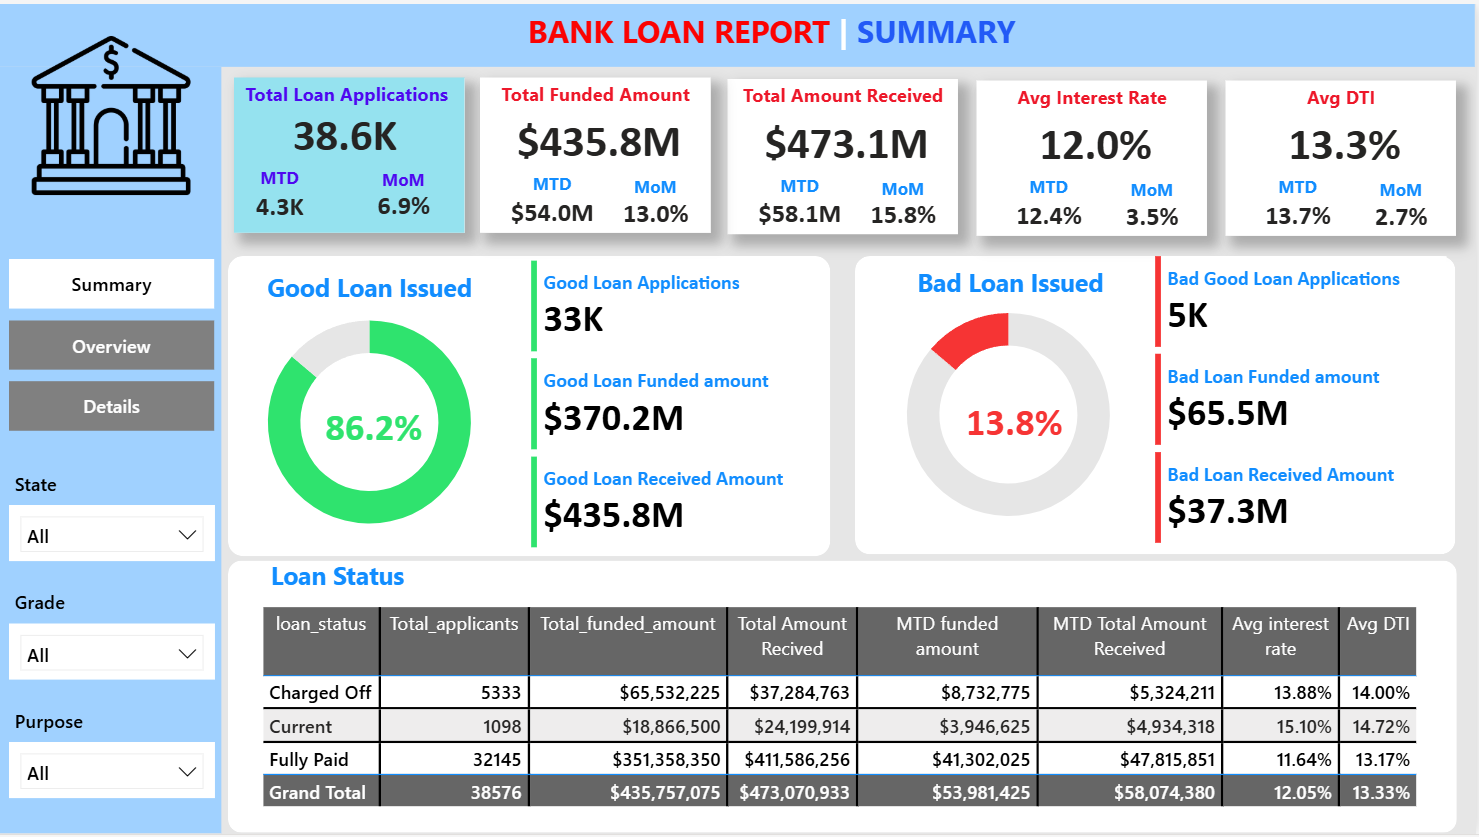

This screenshot's page, from the dashboard's own definition file:
{"tool":"powerbi","page":{"name":"Summary","canvas":[1280,720],"ordinal":0},"visuals":[{"type":"shape","box":[0,0,1279.5,54.5],"z":0},{"type":"textbox","box":[7.6,399.8,89.3,34.8],"z":0,"group":"g1"},{"type":"slicer","fields":{"Values":["bank_loans bank_loan_data.grade"]},"box":[7.6,537.6,178.7,48.5],"z":0,"group":"g8"},{"type":"slicer","fields":{"Values":["bank_loans bank_loan_data.purpose"]},"box":[7.6,640.5,178.7,48.5],"z":0,"group":"g9"},{"type":"shape","box":[0,54.5,192.3,664.7],"z":1000},{"type":"slicer","fields":{"Values":["bank_loans bank_loan_data.address_state"]},"box":[7.6,434.6,178.7,48.5],"z":1000,"group":"g1"},{"type":"textbox","box":[7.6,502.8,89.3,34.8],"z":1000,"group":"g8"},{"type":"textbox","box":[7.6,605.7,89.3,34.8],"z":1000,"group":"g9"},{"type":"textbox","box":[452.7,0,457.3,54.5],"z":2000},{"type":"group","id":"g1","title":"Group 4","box":[7.6,399.8,178.7,83.3],"z":2000,"group":"g8"},{"type":"group","id":"g2","title":"Group 1","box":[198.4,61.3,204.6,137.8],"z":3000},{"type":"shape","box":[415.8,63.6,199.9,134.8],"z":3000,"group":"g5"},{"type":"shape","box":[203.2,64.3,199.9,134.8],"z":3000,"group":"g2"},{"type":"shape","box":[631.5,65.1,199.9,134.8],"z":3000,"group":"g3"},{"type":"shape","box":[847.3,66.6,199.9,134.8],"z":3000,"group":"g4"},{"type":"shape","box":[1063,66.6,199.9,134.8],"z":3000,"group":"g6"},{"type":"group","id":"g3","title":"Group 1","box":[631.5,62.1,202.9,139.3],"z":4000},{"type":"card","fields":{"Values":["bank_loans bank_loan_data.Total_applicants"]},"box":[232.9,89.3,131.7,42.4],"z":4000,"group":"g2"},{"type":"card","fields":{"Values":["bank_loans bank_loan_data.Total_funded_amount"]},"box":[416.5,93.1,202.9,45.4],"z":4000,"group":"g5"},{"type":"card","fields":{"Values":["bank_loans bank_loan_data.Total Amount Recived"]},"box":[632.2,94.6,202.9,45.4],"z":4000,"group":"g3"},{"type":"card","fields":{"Values":["bank_loans bank_loan_data.Avg interest rate"]},"box":[848,96.1,202.9,45.4],"z":4000,"group":"g4"},{"type":"card","fields":{"Values":["bank_loans bank_loan_data.Avg DTI"]},"box":[1063.7,96.1,202.9,45.4],"z":4000,"group":"g6"},{"type":"textbox","box":[421.9,60.6,187.8,33.3],"z":5000,"group":"g5"},{"type":"textbox","box":[206.9,61.3,187.8,33.3],"z":5000,"group":"g2"},{"type":"textbox","box":[637.6,62.1,187.8,33.3],"z":5000,"group":"g3"},{"type":"textbox","box":[853.4,63.6,187.8,33.3],"z":5000,"group":"g4"},{"type":"textbox","box":[1069.1,63.6,187.8,33.3],"z":5000,"group":"g6"},{"type":"shape","box":[198.4,218,522.4,260.4],"z":5000},{"type":"card","title":"MTD","fields":{"Values":["bank_loans bank_loan_data.MTD_ Loan Application"]},"box":[198.4,140.7,89.3,54.5],"z":6000,"group":"g2"},{"type":"card","title":"MTD","fields":{"Values":["bank_loans bank_loan_data.MTD funded amount"]},"box":[431.2,145.4,93.9,54.5],"z":6000,"group":"g5"},{"type":"card","title":"MTD","fields":{"Values":["bank_loans bank_loan_data.MTD Total Amount Received"]},"box":[646.9,146.9,93.9,54.5],"z":6000,"group":"g3"},{"type":"card","title":"MTD","fields":{"Values":["bank_loans bank_loan_data.MTD Avg Interest Rate"]},"box":[862.7,148.4,93.9,54.5],"z":6000,"group":"g4"},{"type":"card","title":"MTD","fields":{"Values":["bank_loans bank_loan_data.MTD Avg Interest Rate"]},"box":[1078.4,148.4,93.9,54.5],"z":6000,"group":"g6"},{"type":"card","fields":{"Values":["bank_loans bank_loan_data.Good Loan %"]},"box":[249.8,342.2,148.4,45.4],"z":6000},{"type":"card","title":"MoM","fields":{"Values":["bank_loans bank_loan_data.MoM applications"]},"box":[305.1,142.2,90.9,51.5],"z":7000,"group":"g2"},{"type":"card","title":"MoM","fields":{"Values":["bank_loans bank_loan_data.MoM total funded amount"]},"box":[522,147.5,90.9,51.5],"z":7000,"group":"g5"},{"type":"card","title":"MoM","fields":{"Values":["bank_loans bank_loan_data.MoM Total Amount Received"]},"box":[737.7,149,90.9,51.5],"z":7000,"group":"g3"},{"type":"card","title":"MoM","fields":{"Values":["bank_loans bank_loan_data.MoM Avg Interest Rate"]},"box":[953.5,150.5,90.9,51.5],"z":7000,"group":"g4"},{"type":"card","title":"MoM","fields":{"Values":["bank_loans bank_loan_data.MoM Avg DTI"]},"box":[1169.2,150.5,90.9,51.5],"z":7000,"group":"g6"},{"type":"shape","box":[742,218,520.9,258.9],"z":7000},{"type":"group","id":"g4","title":"Group 1","box":[847.3,63.6,202.9,139.3],"z":8000},{"type":"textbox","box":[782.9,221.1,186.2,48.5],"z":8000,"group":"g10"},{"type":"group","id":"g5","title":"Group 1","box":[415.8,60.6,202.9,139.3],"z":9000},{"type":"group","id":"g6","title":"Group 1","box":[1063,63.6,202.9,139.3],"z":10000},{"type":"donutChart","fields":{"Category":["bank_loans bank_loan_data.Good Loan Vs Bad Loan"],"Y":["bank_loans bank_loan_data.Total_applicants"]},"box":[195.3,247.6,249.8,230.2],"z":10000,"group":"g7"},{"type":"card","fields":{"Values":["bank_loans bank_loan_data.Bad Good Loan %"]},"box":[805.6,337.7,148.4,45.4],"z":11000},{"type":"group","id":"g7","title":"Group 3","box":[195.3,213.5,1064.5,265],"z":12000},{"type":"cardVisual","fields":{"Data":["bank_loans bank_loan_data.Good Loan Applications","bank_loans bank_loan_data.Good Loan Funded amount","bank_loans bank_loan_data.Good Loan Received Amount"]},"box":[455.7,217.4,263.5,260.4],"z":13000,"group":"g7"},{"type":"shape","box":[198.4,483,1066,236.2],"z":13000},{"type":"donutChart","fields":{"Category":["bank_loans bank_loan_data.Good Loan Vs Bad Loan"],"Y":["bank_loans bank_loan_data.Total_applicants"]},"box":[749.6,240.8,249.8,230.2],"z":14000,"group":"g10"},{"type":"tableEx","fields":{"Values":["bank_loans bank_loan_data.loan_status","bank_loans bank_loan_data.Total_applicants","bank_loans bank_loan_data.Total_funded_amount","bank_loans bank_loan_data.Total Amount Recived","bank_loans bank_loan_data.MTD funded amount","bank_loans bank_loan_data.MTD Total Amount Received","bank_loans bank_loan_data.Avg interest rate","bank_loans bank_loan_data.Avg DTI"]},"box":[222.6,517.9,1017.5,201.4],"z":14000},{"type":"textbox","box":[224.1,475.5,137.8,45.4],"z":15000},{"type":"textbox","box":[219.5,224.9,201.4,45.4],"z":16000,"group":"g7"},{"type":"group","id":"g8","title":"Group 5","box":[7.6,399.8,178.7,186.2],"z":16000},{"type":"cardVisual","fields":{"Data":["bank_loans bank_loan_data.Bad Good Loan Applications","bank_loans bank_loan_data.Bad Loan Funded amount","bank_loans bank_loan_data.Good Loan Received Amount"]},"box":[996.4,213.5,263.5,260.4],"z":17000,"group":"g10"},{"type":"group","id":"g9","title":"Group 6","box":[7.6,605.7,178.7,83.3],"z":17000},{"type":"image","box":[22.7,10.6,148.4,172.6],"z":17001},{"type":"group","id":"g10","title":"Group 2","box":[749.6,213.5,510.3,260.4],"z":17001,"group":"g7"},{"type":"pageNavigator","box":[7.6,221.1,178.7,149.9],"z":17002}]}

Visuals, with their boxes in screenshot pixels (x1, y1, x2, y2), scaled from the page's 1280x720 canvas onto the 1479x837 screenshot:
shape: bbox=[0, 0, 1478, 63]
textbox: bbox=[9, 465, 112, 505]
slicer - bank_loans bank_loan_data.grade: bbox=[9, 625, 215, 681]
slicer - bank_loans bank_loan_data.purpose: bbox=[9, 745, 215, 801]
shape: bbox=[0, 63, 222, 836]
slicer - bank_loans bank_loan_data.address_state: bbox=[9, 505, 215, 562]
textbox: bbox=[9, 585, 112, 625]
textbox: bbox=[9, 704, 112, 745]
textbox: bbox=[523, 0, 1051, 63]
"Group 4" group: bbox=[9, 465, 215, 562]
"Group 1" group: bbox=[229, 71, 466, 231]
shape: bbox=[480, 74, 711, 231]
shape: bbox=[235, 75, 466, 231]
shape: bbox=[730, 76, 961, 232]
shape: bbox=[979, 77, 1210, 234]
shape: bbox=[1228, 77, 1459, 234]
"Group 1" group: bbox=[730, 72, 964, 234]
card - bank_loans bank_loan_data.Total_applicants: bbox=[269, 104, 421, 153]
card - bank_loans bank_loan_data.Total_funded_amount: bbox=[481, 108, 716, 161]
card - bank_loans bank_loan_data.Total Amount Recived: bbox=[730, 110, 965, 163]
card - bank_loans bank_loan_data.Avg interest rate: bbox=[980, 112, 1214, 164]
card - bank_loans bank_loan_data.Avg DTI: bbox=[1229, 112, 1464, 164]
textbox: bbox=[487, 70, 704, 109]
textbox: bbox=[239, 71, 456, 110]
textbox: bbox=[737, 72, 954, 111]
textbox: bbox=[986, 74, 1203, 113]
textbox: bbox=[1235, 74, 1452, 113]
shape: bbox=[229, 253, 833, 556]
"MTD" card: bbox=[229, 164, 332, 227]
"MTD" card: bbox=[498, 169, 607, 232]
"MTD" card: bbox=[747, 171, 856, 234]
"MTD" card: bbox=[997, 173, 1105, 236]
"MTD" card: bbox=[1246, 173, 1355, 236]
card - bank_loans bank_loan_data.Good Loan %: bbox=[289, 398, 460, 451]
"MoM" card: bbox=[353, 165, 458, 225]
"MoM" card: bbox=[603, 171, 708, 231]
"MoM" card: bbox=[852, 173, 957, 233]
"MoM" card: bbox=[1102, 175, 1207, 235]
"MoM" card: bbox=[1351, 175, 1456, 235]
shape: bbox=[857, 253, 1459, 554]
"Group 1" group: bbox=[979, 74, 1213, 236]
textbox: bbox=[905, 257, 1120, 313]
"Group 1" group: bbox=[480, 70, 715, 232]
"Group 1" group: bbox=[1228, 74, 1463, 236]
donutChart - bank_loans bank_loan_data.Good Loan Vs Bad Loan x bank_loans bank_loan_data.Total_applicants: bbox=[226, 288, 514, 555]
card - bank_loans bank_loan_data.Bad Good Loan %: bbox=[931, 393, 1102, 445]
"Group 3" group: bbox=[226, 248, 1456, 556]
cardVisual - bank_loans bank_loan_data.Good Loan Applications x bank_loans bank_loan_data.Good Loan Funded amount: bbox=[527, 253, 831, 555]
shape: bbox=[229, 561, 1461, 836]
donutChart - bank_loans bank_loan_data.Good Loan Vs Bad Loan x bank_loans bank_loan_data.Total_applicants: bbox=[866, 280, 1155, 548]
tableEx - bank_loans bank_loan_data.loan_status x bank_loans bank_loan_data.Total_applicants: bbox=[257, 602, 1433, 836]
textbox: bbox=[259, 553, 418, 606]
textbox: bbox=[254, 261, 486, 314]
"Group 5" group: bbox=[9, 465, 215, 681]
cardVisual - bank_loans bank_loan_data.Bad Good Loan Applications x bank_loans bank_loan_data.Bad Loan Funded amount: bbox=[1151, 248, 1456, 551]
"Group 6" group: bbox=[9, 704, 215, 801]
image: bbox=[26, 12, 198, 213]
"Group 2" group: bbox=[866, 248, 1456, 551]
pageNavigator: bbox=[9, 257, 215, 431]
